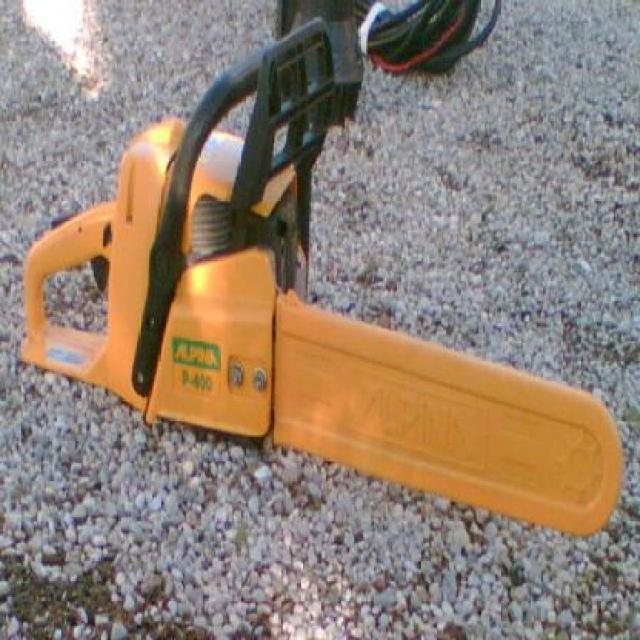Chainsaw: (21, 9, 622, 534)
